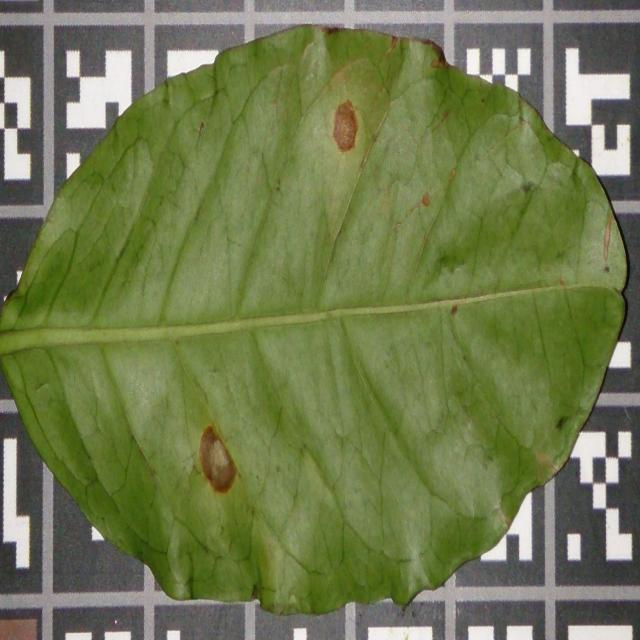Enfermedad-Mancha-de-hierro: (0, 27, 630, 618)
